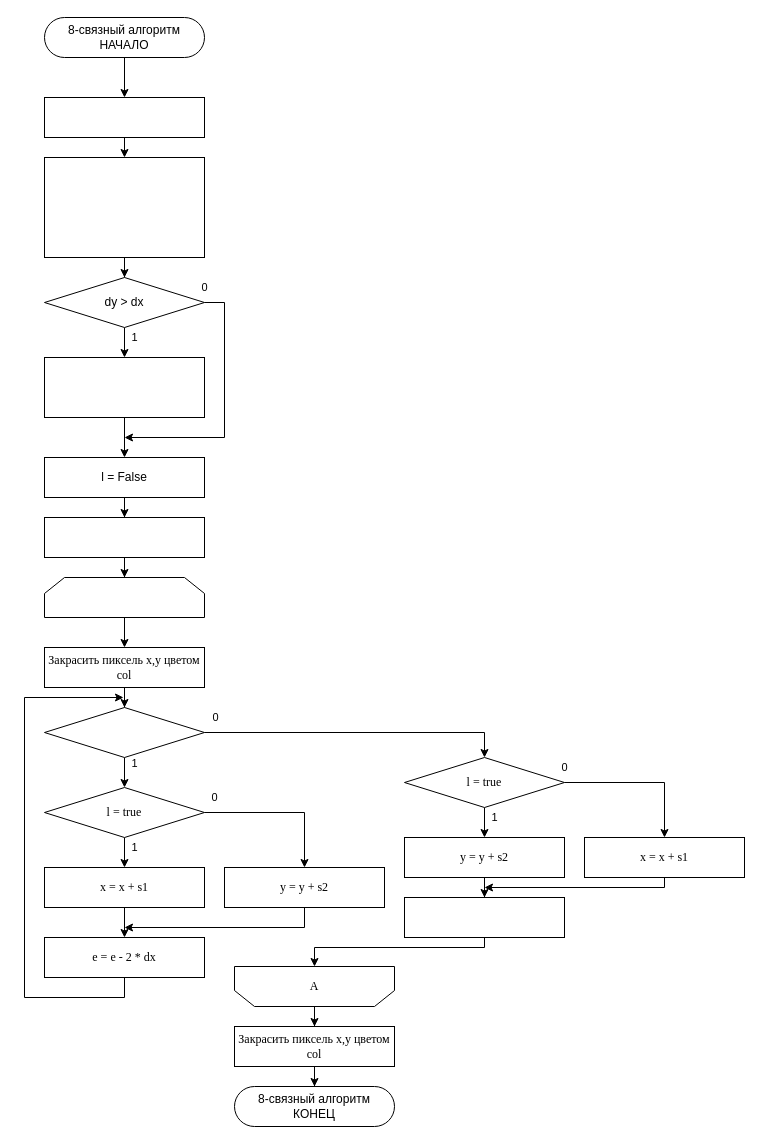
Some shapes in this 762 by 1144 pixel diagram are drawn without their labels. Here are the shapes that lost their labels. From the top down, the centre of each, then its label:
point (124, 117): x1, y1, x2, y2, col
point (124, 207): x = x1 y = y1 dx = |x2-x1| dy = |y2-y1| s1 = Sign(x2-x1) s2 = Sign(y2-y1)
point (124, 387): tmp = dy dy = dx dx = tmp l = False
point (124, 537): e = 2*dy - dx
point (124, 597): A i = idx
point (124, 732): e >= 0
point (484, 917): e = e + 2 * dy
